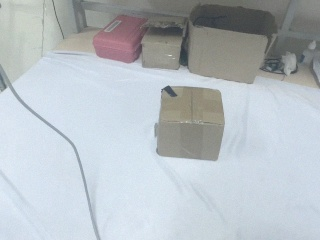box: (187, 3, 279, 85), (155, 84, 226, 161), (91, 12, 149, 65), (139, 14, 186, 71)
